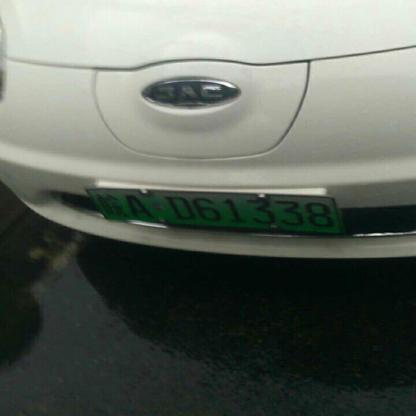lp: (87, 190, 342, 232)
